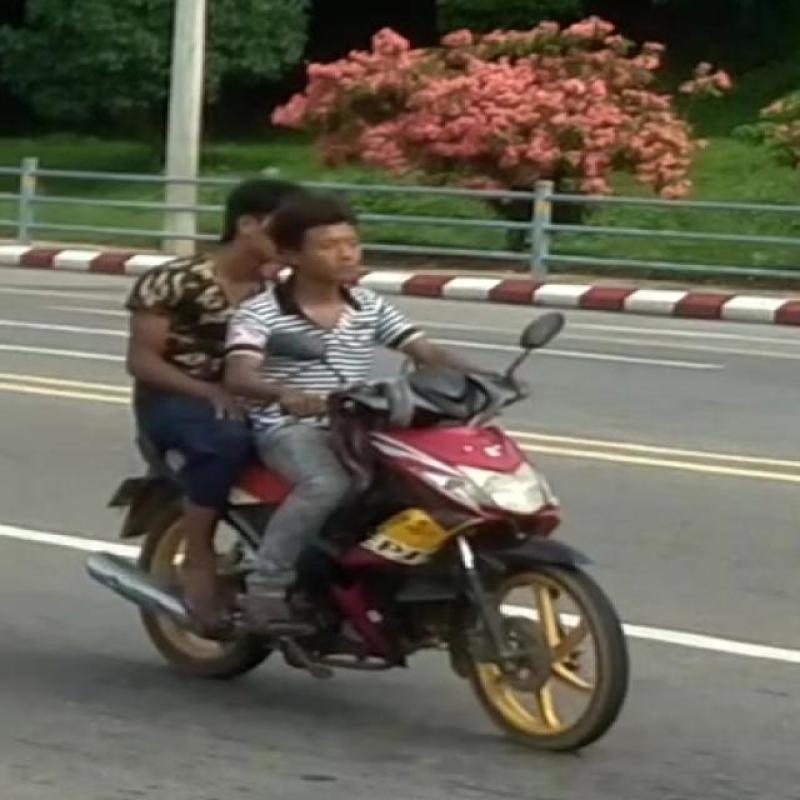nohelmet: (242, 178, 518, 318)
